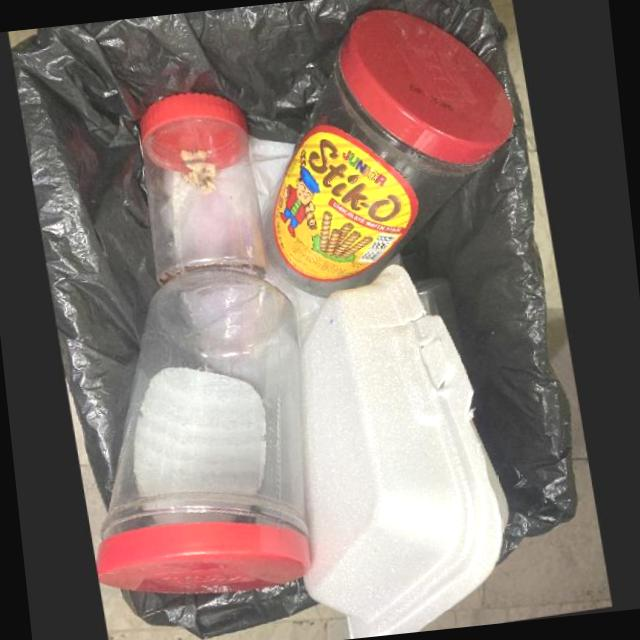hop_nhua: (269, 13, 521, 300), (97, 271, 312, 597), (143, 94, 273, 291)
xop: (304, 268, 511, 639)
